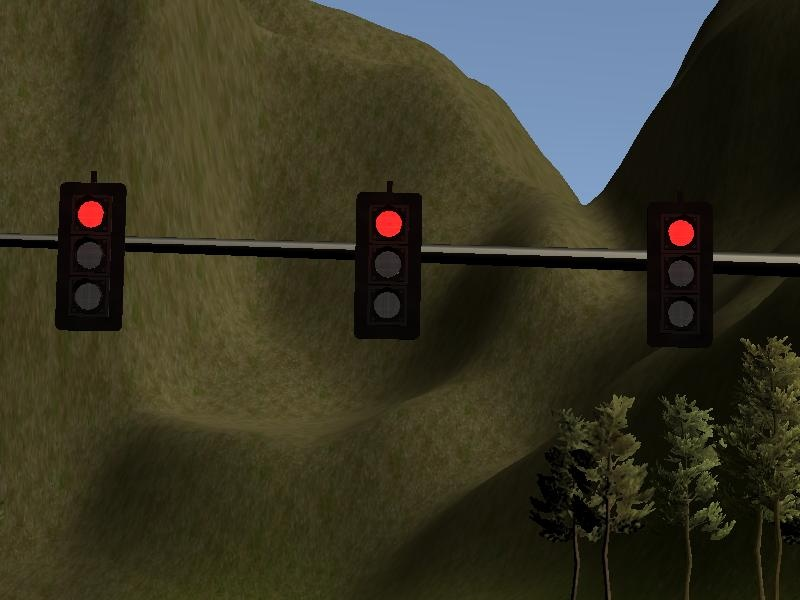RED: (56, 179, 122, 331), (354, 190, 420, 342), (645, 199, 711, 351)
